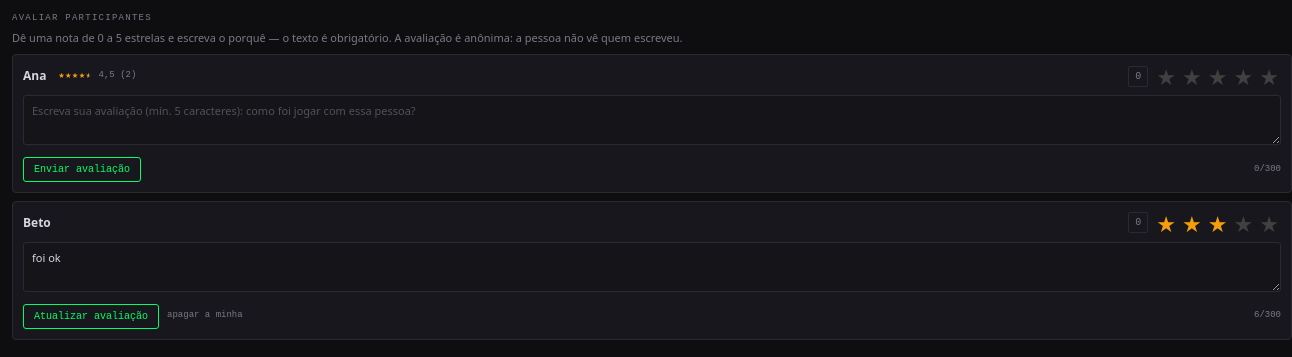
AvaliarParticipantes — estrelas e texto obrigatório › escolhe de 0 a 5 estrelas, escreve e envia
The image size is (1292, 357).
Step 1. Click the radio button named "4 estrelas" → (1243,76), box [1232, 65, 1255, 87]
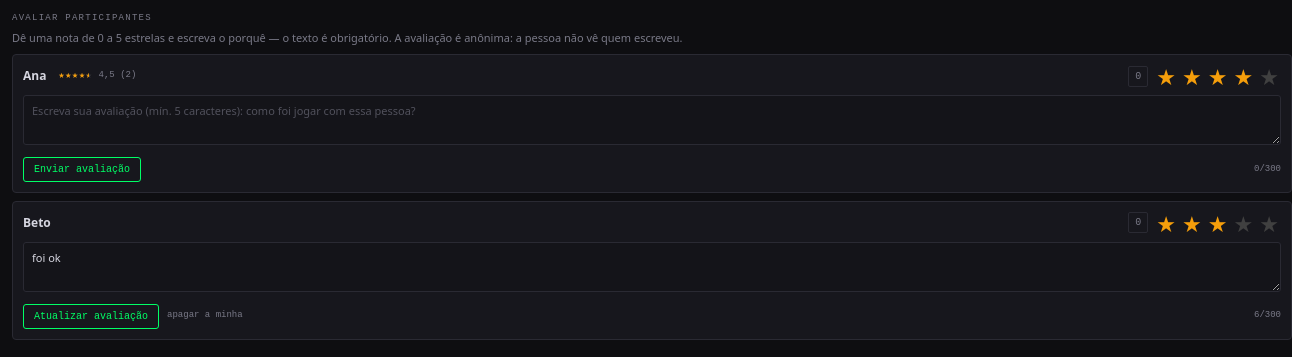
Step 2. Replace the text in the text box named "Avaliação escrita sobre Ana" with "ótima interpretação" → (652,120), box [23, 95, 1281, 145]
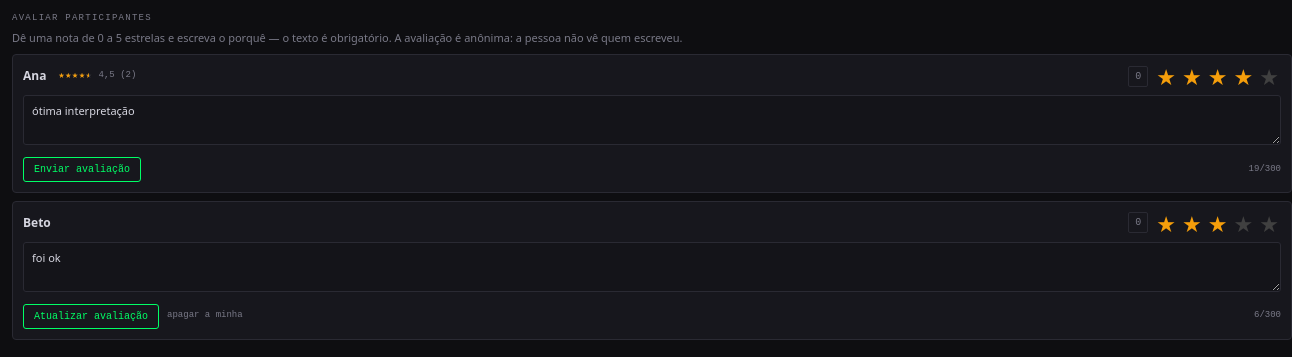
Step 3. Click the button "Enviar avaliação" → (82,169), box [23, 157, 141, 182]
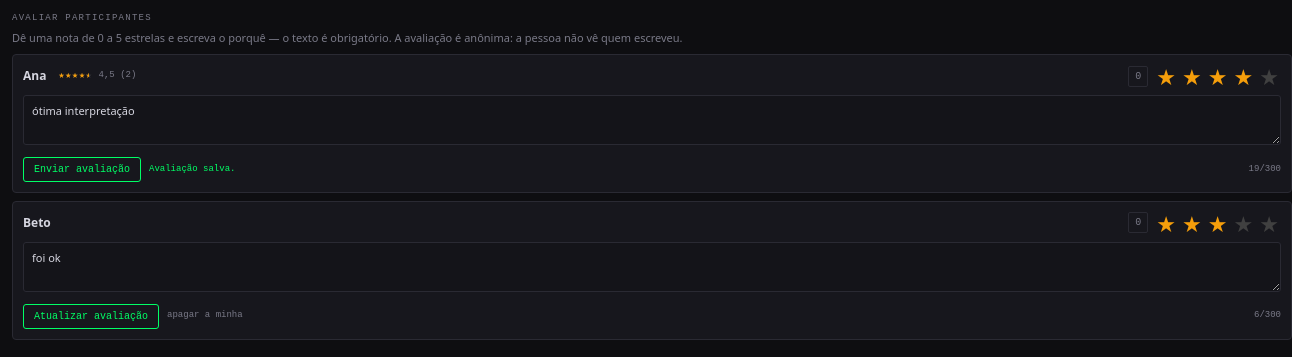
expect the text "Avaliação salva." is shown: met, box [149, 162, 235, 176]
